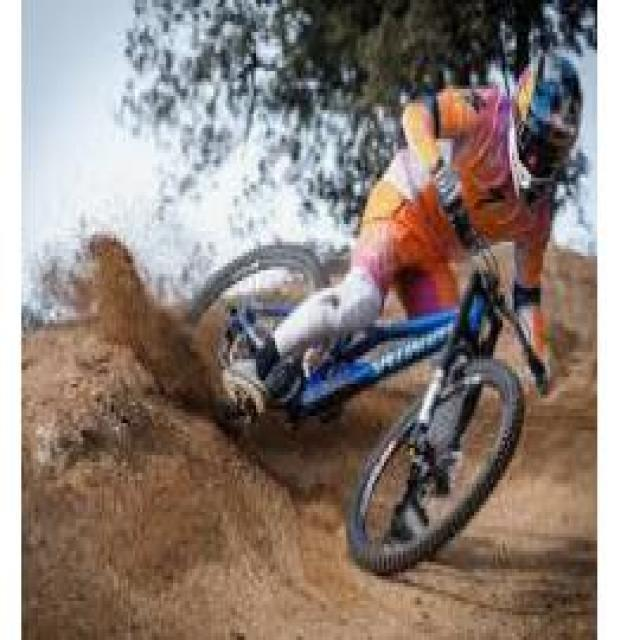bicycle: (172, 229, 542, 574)
